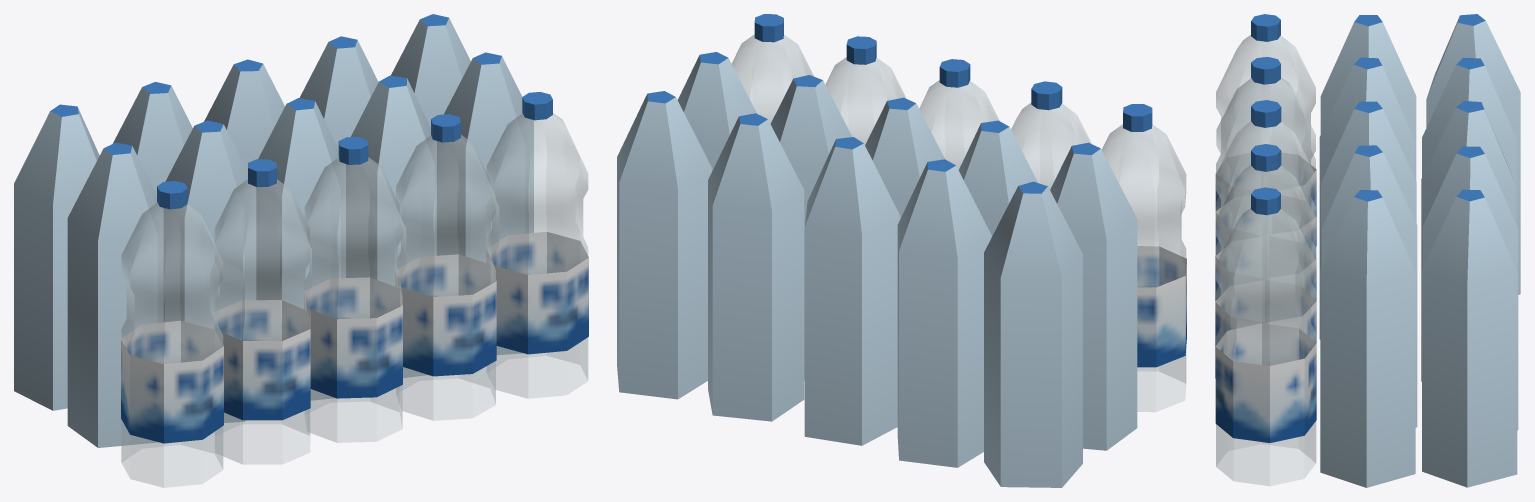
The model's file is SC_Prod_Row_Water_2L_600.gltf.
3 renders of one model, left to right at view 1: azimuth 30°, elevation 25°; view 2: azimuth 150°, elevation 25°; view 3: azimuth 270°, elevation 25°, orthographic. The views are drawn at different scales.
Visible parts, largest first — view 1: SC_Prod_Row_Water_2L_600; view 2: SC_Prod_Row_Water_2L_600; view 3: SC_Prod_Row_Water_2L_600.
Part boxes in pixels (box(x1,y1,x2,y2)): SC_Prod_Row_Water_2L_600: box(14, 14, 588, 487); SC_Prod_Row_Water_2L_600: box(617, 14, 1186, 487); SC_Prod_Row_Water_2L_600: box(1215, 14, 1520, 487).
Bounding box in the file's own units: 0.5377 × 0.313 × 0.319.
3 materials, 3 textured.
